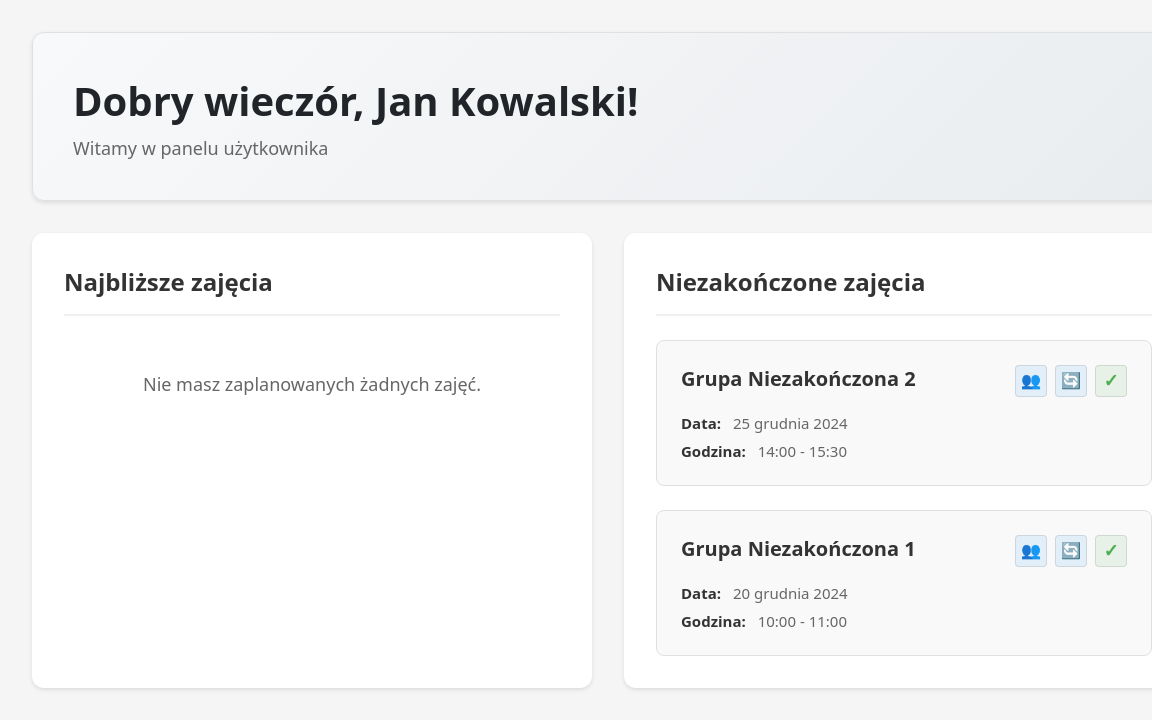
Scenario: DashboardPage › Instructor unfinished classes section › should open complete session modal when complete button is clicked
Click the button titled "Oznacz jako wykonane" in the row of "Grupa Niezakończona 2" at (1111, 381), box [1095,365,1127,397]
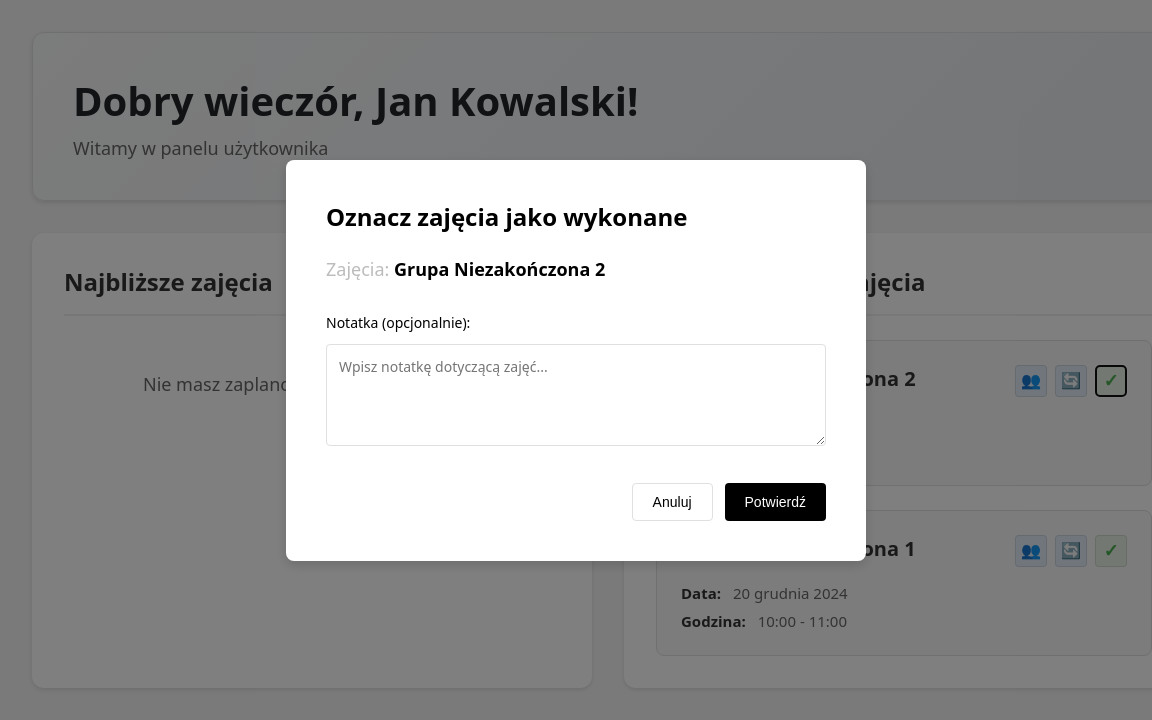
Result: the heading "Oznacz zajęcia jako wykonane" is shown at [326,200,687,232]
